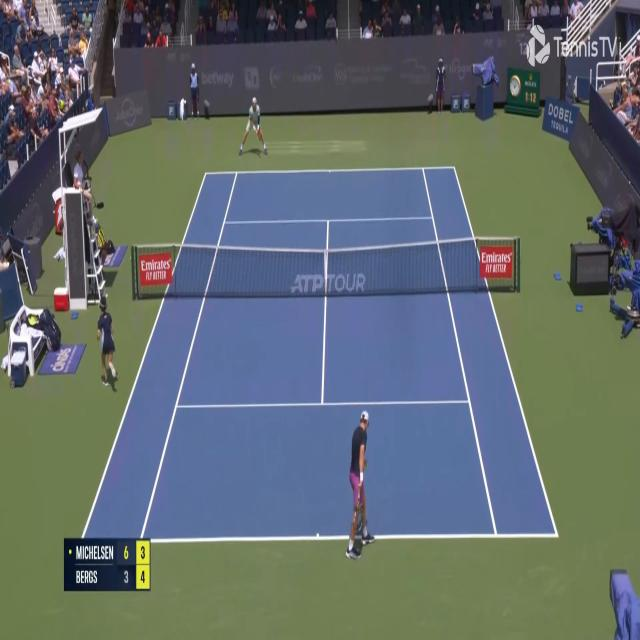tennis-player: (344, 408, 376, 563), (238, 95, 268, 158)
